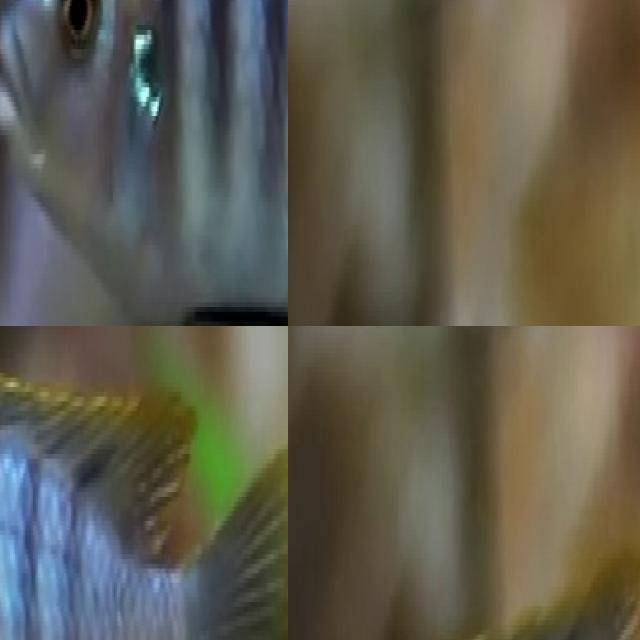fish: (0, 0, 288, 326), (0, 344, 288, 640)
